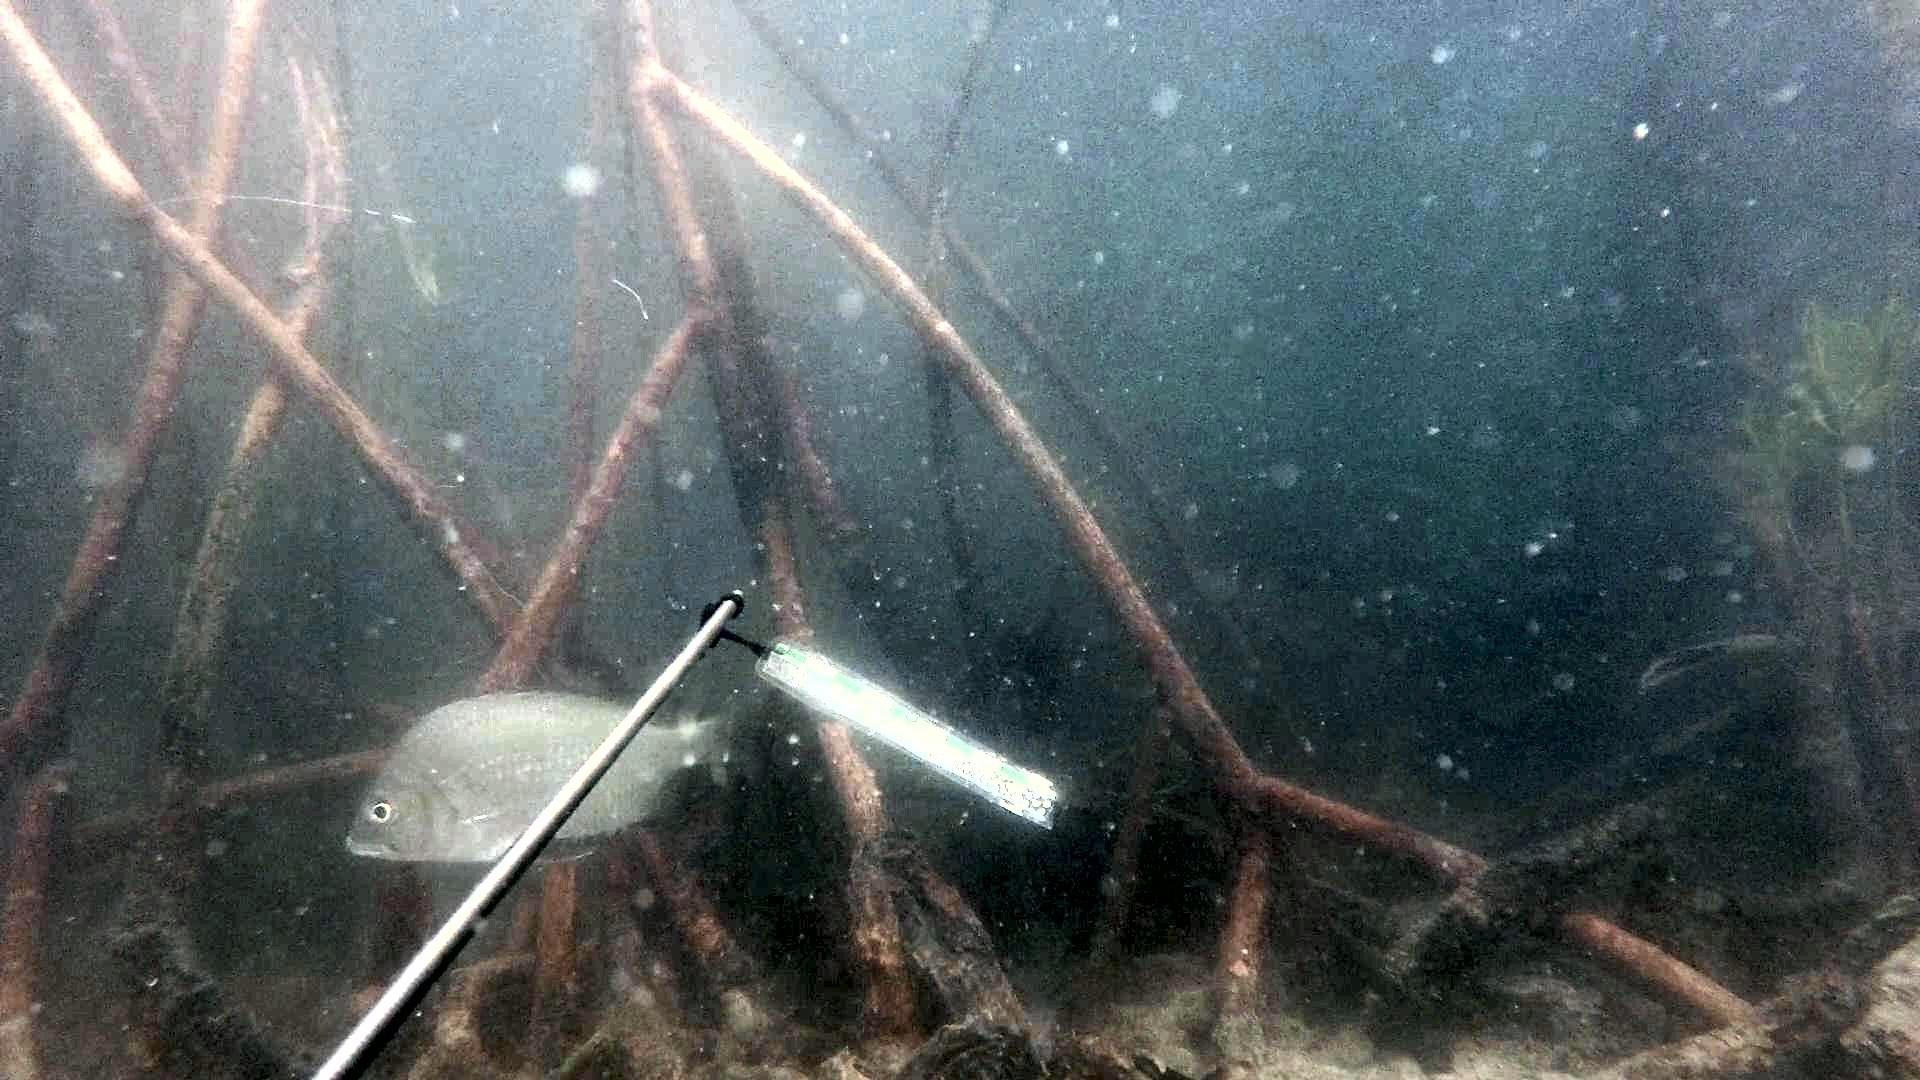acanthopagrus palmaris: (335, 678, 764, 878)
